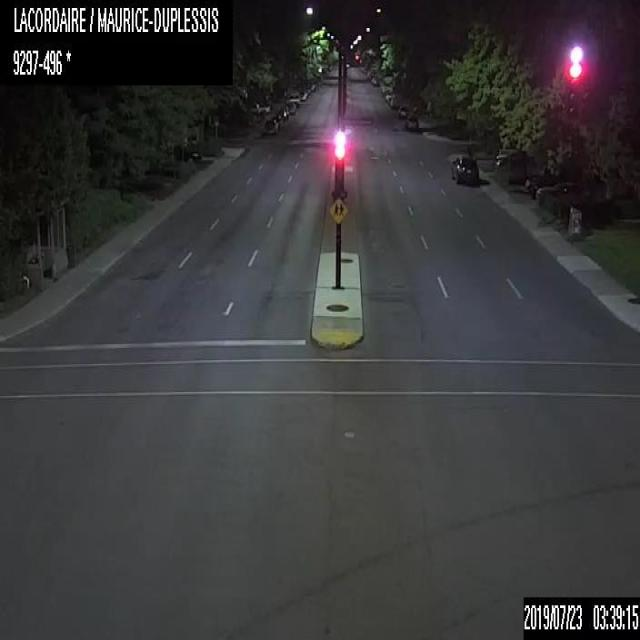vehicle: (448, 152, 479, 187), (535, 181, 584, 202), (494, 152, 529, 170), (172, 144, 203, 164), (251, 102, 270, 116), (263, 117, 278, 132), (404, 115, 418, 130), (397, 105, 409, 119), (287, 92, 299, 104), (286, 102, 296, 113), (370, 75, 379, 85), (496, 148, 516, 152), (298, 90, 306, 100)
